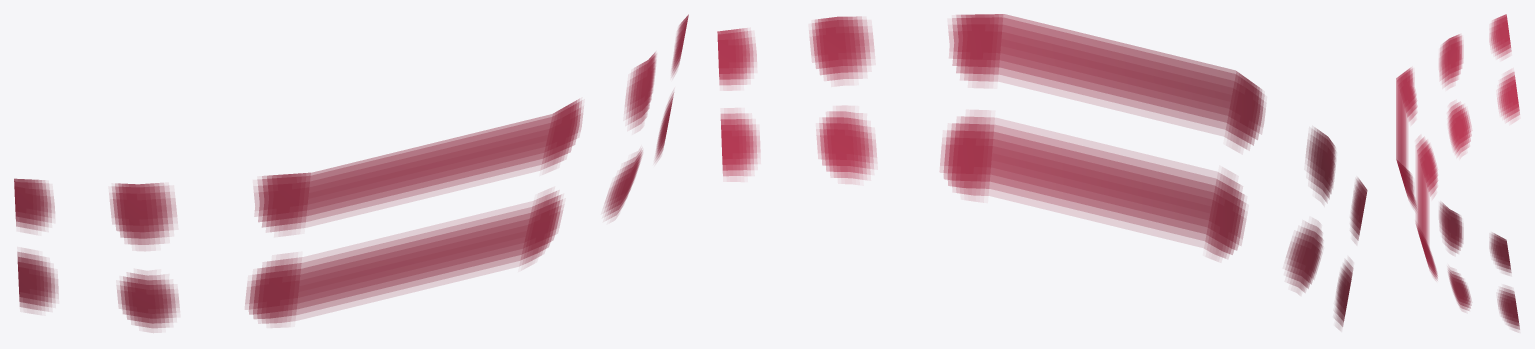
The picture shows the model from 3 angles, left to right: view 1: azimuth 30°, elevation 25°; view 2: azimuth 150°, elevation 25°; view 3: azimuth 270°, elevation 25°; orthographic projection. The views are drawn at different scales.
Visible parts, largest first — view 1: ef_799; view 2: ef_799; view 3: ef_799.
Part boxes in pixels (box(x1,y1,x2,y2)): ef_799: box(14, 14, 688, 332); ef_799: box(717, 14, 1367, 329); ef_799: box(1396, 14, 1519, 331).
Bounding box in the file's own units: 0.6108 × 0.1538 × 0.1428.
1 material, 1 textured.
